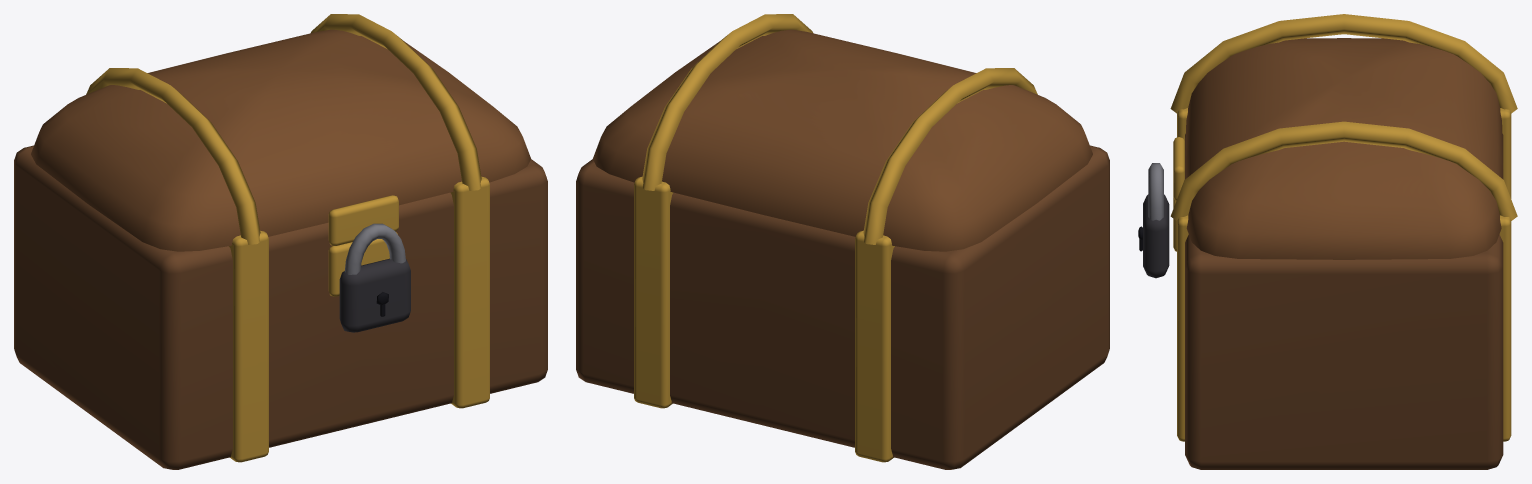
The model's file is furn_bank_trunk.glb.
3 views of the same model, side by side, from view 1: azimuth 30°, elevation 25°; view 2: azimuth 150°, elevation 25°; view 3: azimuth 270°, elevation 25° (orthographic).
Visible parts, largest first — view 1: furn_bank_trunk_main; view 2: furn_bank_trunk_main; view 3: furn_bank_trunk_main.
Boxes of the visible parts, x1=… form: furn_bank_trunk_main: x1=14, y1=14, x2=547, y2=469; furn_bank_trunk_main: x1=576, y1=14, x2=1109, y2=469; furn_bank_trunk_main: x1=1138, y1=14, x2=1517, y2=469.
Bounding box in the file's own units: 0.56 × 0.436 × 0.4772.
